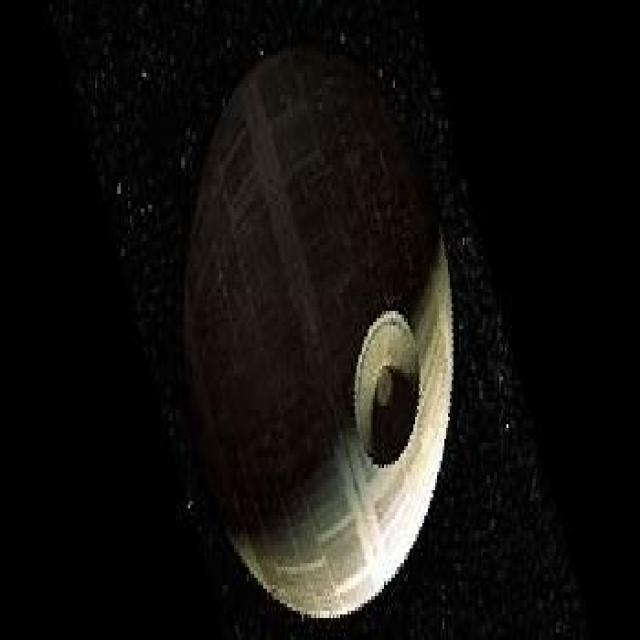Death Star: (178, 36, 458, 622)
